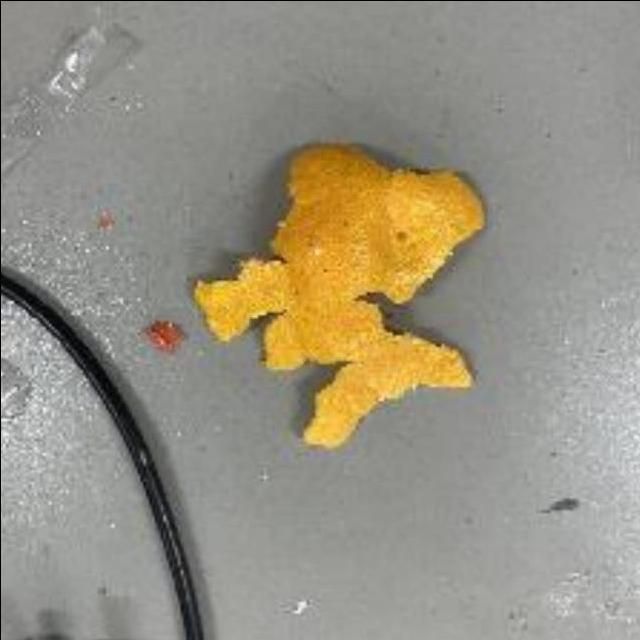orange peel: (198, 130, 494, 450)
